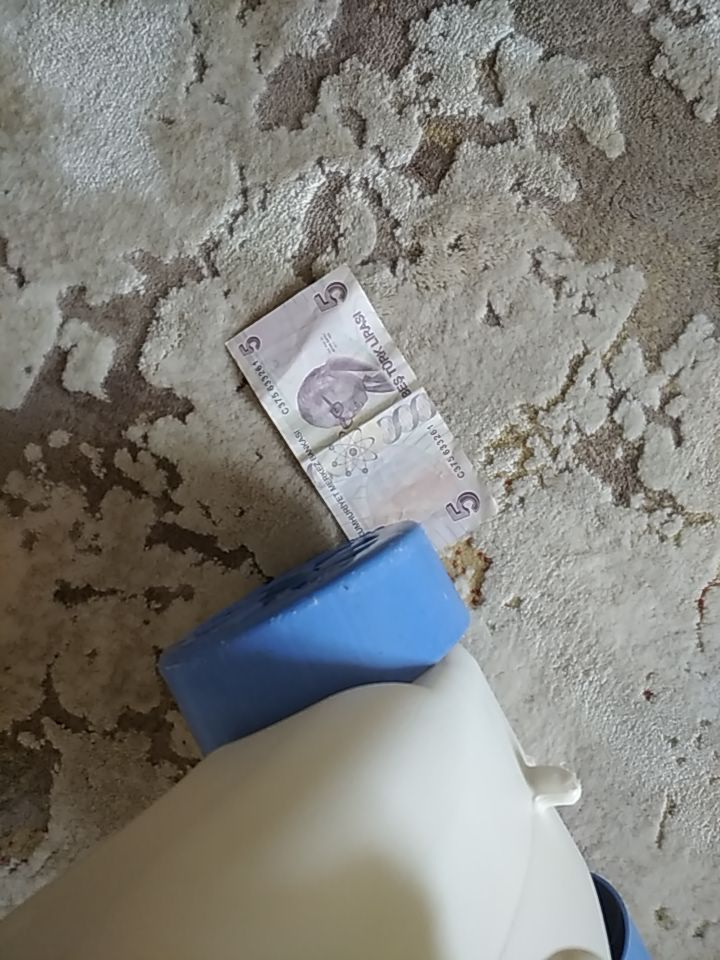5TL: (222, 260, 499, 562)
